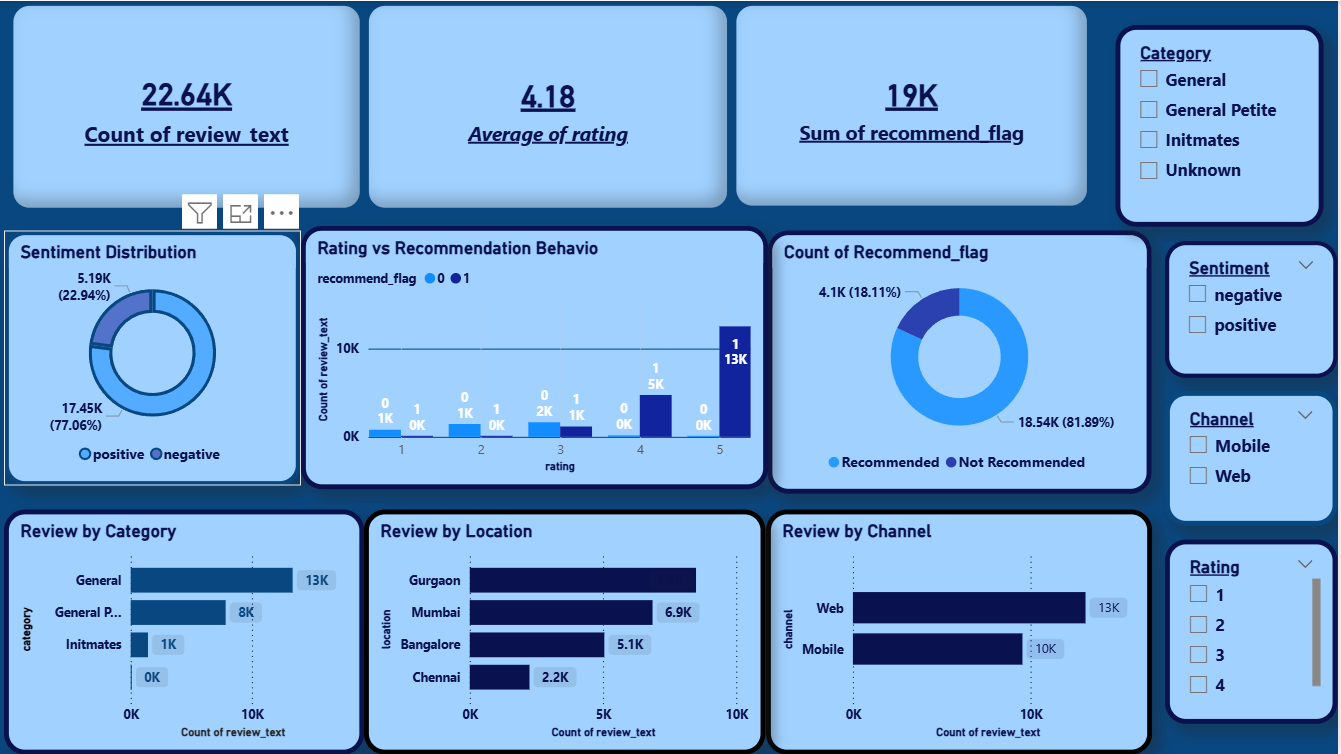

The dashboard page shown, as its layout file describes it:
{"tool":"powerbi","page":{"name":"CNWC_DASHBOARD","canvas":[1280,720],"ordinal":0},"visuals":[{"type":"card","fields":{"Values":["CountNonNull(CWNC_REVIEW_DATA.review_text)"]},"box":[9.4,0,340.2,202.2],"z":0},{"type":"card","fields":{"Values":["Avg(CWNC_REVIEW_DATA.rating)"]},"box":[349.6,0,351.5,202.2],"z":1000},{"type":"card","fields":{"Values":["Sum(CWNC_REVIEW_DATA.recommend_flag)"]},"box":[701.1,0,343.9,200.3],"z":2000},{"type":"donutChart","title":"Count of Recommend_flag","fields":{"Y":["CountNonNull(CWNC_REVIEW_DATA.Recommend_Status)"],"Category":["CWNC_REVIEW_DATA.Recommend_Status"]},"box":[735.1,219.2,366.6,251.3],"z":3000},{"type":"donutChart","title":"Sentiment Distribution","fields":{"Y":["CountNonNull(CWNC_REVIEW_DATA.review_text)"],"Category":["CWNC_REVIEW_DATA.sentiment"]},"box":[5.7,219.2,283.5,243.8],"z":4000},{"type":"clusteredColumnChart","title":"Rating vs Recommendation Behavio","fields":{"Category":["CWNC_REVIEW_DATA.rating"],"Y":["CountNonNull(CWNC_REVIEW_DATA.review_text)"],"Series":["CWNC_REVIEW_DATA.recommend_flag"]},"box":[289.1,215.4,446,251.3],"z":5000},{"type":"clusteredBarChart","title":"Review by Category","fields":{"Category":["CWNC_REVIEW_DATA.category"],"Y":["CountNonNull(CWNC_REVIEW_DATA.review_text)"]},"box":[5.7,485.7,343.9,234.3],"z":6000},{"type":"clusteredBarChart","title":"Review by Channel","fields":{"Y":["CountNonNull(CWNC_REVIEW_DATA.review_text)"],"Category":["CWNC_REVIEW_DATA.channel"]},"box":[733.2,485.7,368.5,234.3],"z":7000},{"type":"clusteredBarChart","title":"Review by Location","fields":{"Category":["CWNC_REVIEW_DATA.location"],"Y":["CountNonNull(CWNC_REVIEW_DATA.review_text)"]},"box":[349.6,485.7,383.6,234.3],"z":8000},{"type":"slicer","fields":{"Values":["CWNC_REVIEW_DATA.sentiment"]},"box":[1115,228.7,164.4,130.4],"z":9000},{"type":"slicer","fields":{"Values":["CWNC_REVIEW_DATA.Category_Clean"]},"box":[1067.7,22.7,198.4,192.8],"z":10000},{"type":"slicer","fields":{"Values":["CWNC_REVIEW_DATA.channel"]},"box":[1115,372.3,164.4,128.5],"z":11000},{"type":"slicer","fields":{"Values":["CWNC_REVIEW_DATA.rating"]},"box":[1115,514,164.4,175.7],"z":12000}]}

Visuals, with their boxes in screenshot pixels (x1, y1, x2, y2), scaled from the page's 1280x720 canvas onto the 1341x754 screenshot:
card - CountNonNull(CWNC_REVIEW_DATA.review_text): 10 0 366 212
card - Avg(CWNC_REVIEW_DATA.rating): 366 0 735 212
card - Sum(CWNC_REVIEW_DATA.recommend_flag): 735 0 1095 210
"Count of Recommend_flag" donutChart: 770 230 1154 493
"Sentiment Distribution" donutChart: 6 230 303 485
"Rating vs Recommendation Behavio" clusteredColumnChart: 303 226 770 489
"Review by Category" clusteredBarChart: 6 509 366 753
"Review by Channel" clusteredBarChart: 768 509 1154 753
"Review by Location" clusteredBarChart: 366 509 768 753
slicer - CWNC_REVIEW_DATA.sentiment: 1168 239 1340 376
slicer - CWNC_REVIEW_DATA.Category_Clean: 1119 24 1326 226
slicer - CWNC_REVIEW_DATA.channel: 1168 390 1340 524
slicer - CWNC_REVIEW_DATA.rating: 1168 538 1340 722
